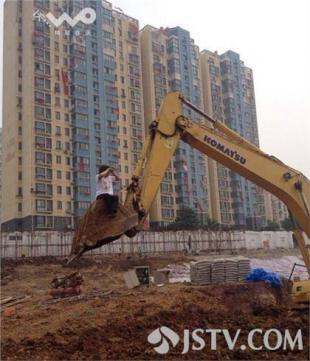excavator: (71, 89, 310, 304)
